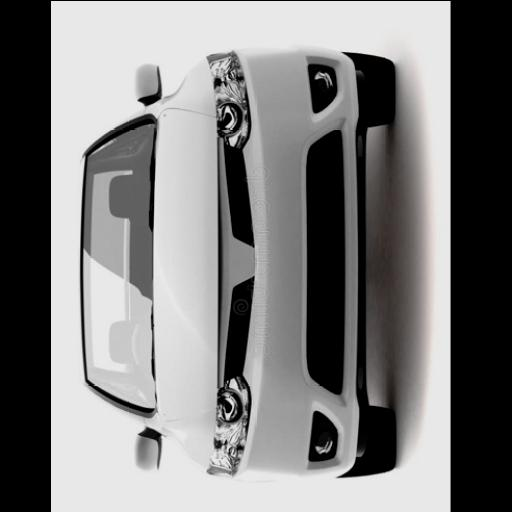sedan: (80, 48, 393, 477)
